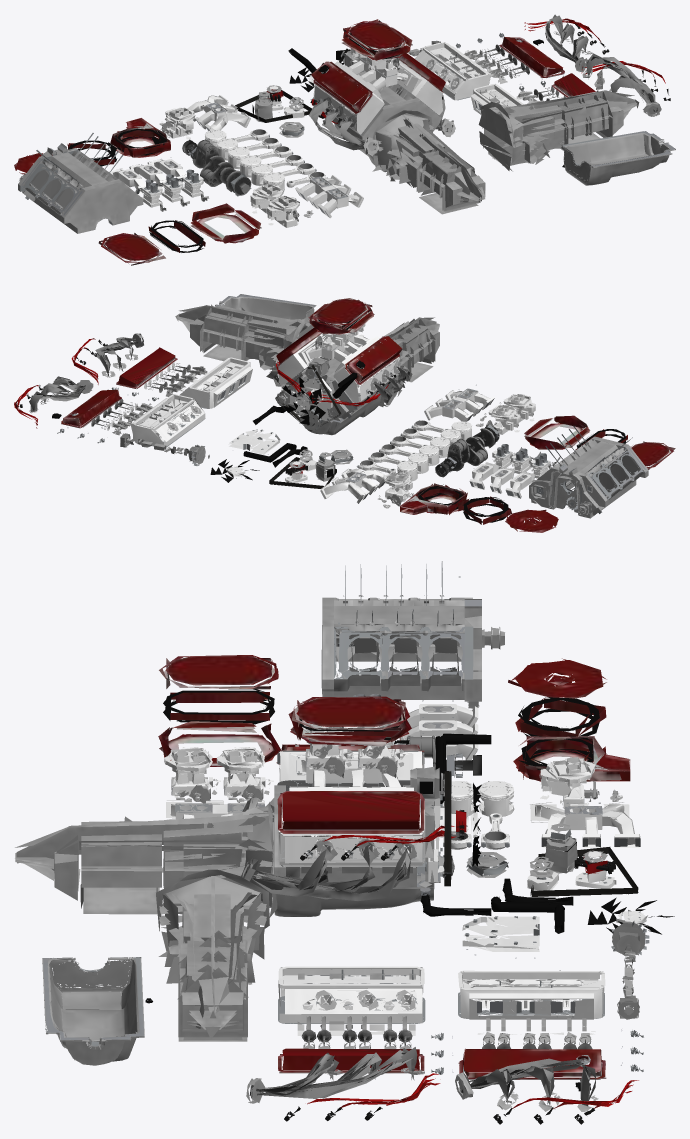
File: eng-v6-35-na.glb
The picture shows the model from 3 angles, top to bottom: view 1: azimuth 30°, elevation 25°; view 2: azimuth 150°, elevation 25°; view 3: azimuth 270°, elevation 25°; orthographic projection. The views are drawn at different scales.
Parts seen in each view (by area): view 1: hute_gearbox.002_Metall2_0, hute_gearbox.001_Metall2_0, Cube.018_Metall2_0, Plane.014_Metall2_0, Plane.015_Metall1_0, Cube.005_Metall2_0, Cylinder.012_Metall4_0, Plane.006_Metal_Paint_0, Cylinder.024_Metal_Paint_0, Cube.007_Metall1_0, Plane.005_Metall1_0, Cube.018_Metall3_0 (+27 smaller); view 2: hute_gearbox.002_Metall2_0, Cube.018_Metall2_0, Plane.015_Metall1_0, hute_gearbox.001_Metall2_0, Plane.012_Metall1_0, Cube.018_Metall3_0, Cylinder.012_Metall4_0, Plane.014_Metall2_0, Plane.006_Metal_Paint_0, Cylinder.024_Metal_Paint_0, Cube.007_Metall1_0, Cube.014_Metall1_0 (+33 smaller); view 3: hute_gearbox.001_Metall2_0, hute_gearbox.002_Metall2_0, Cube.018_Metall2_0, Plane.014_Metall2_0, Plane.012_Metall1_0, Plane.015_Metall1_0, Plane.010_Metal_Paint_0, Cube.018_Metall3_0, Plane.001_Metall1_0, Cylinder.028_Collector_0, Cylinder.039_Metal_Paint_0, Cylinder.022_Metal_Paint_0 (+36 smaller).
Boxes of the visible parts, x1,y1,x2,y2 form: hute_gearbox.002_Metall2_0: (478,90,639,171); hute_gearbox.001_Metall2_0: (372,110,485,214); Cube.018_Metall2_0: (18,143,143,233); Plane.014_Metall2_0: (561,131,675,185); Plane.015_Metall1_0: (414,42,491,100); Cube.005_Metall2_0: (317,71,441,151); Cylinder.012_Metall4_0: (182,139,251,195); Plane.006_Metal_Paint_0: (311,61,372,114); Cylinder.024_Metal_Paint_0: (191,203,261,243); Cube.007_Metall1_0: (295,175,363,218); Plane.005_Metall1_0: (313,61,384,134); Cube.018_Metall3_0: (19,133,123,225); hute_gearbox.002_Metall2_0: (175,304,314,370); Cube.018_Metall2_0: (529,436,648,518); Plane.015_Metall1_0: (130,394,205,446); hute_gearbox.001_Metall2_0: (379,317,439,406); Plane.012_Metall1_0: (179,357,252,408); Cube.018_Metall3_0: (536,426,646,513); Cylinder.012_Metall4_0: (435,426,499,477); Plane.014_Metall2_0: (215,294,316,319); Plane.006_Metal_Paint_0: (345,336,402,384); Cylinder.024_Metal_Paint_0: (524,415,590,449); Cube.007_Metall1_0: (424,389,494,421); Cube.014_Metall1_0: (469,462,535,498); hute_gearbox.001_Metall2_0: (15,802,277,917); hute_gearbox.002_Metall2_0: (156,869,269,1041); Cube.018_Metall2_0: (321,595,504,708); Plane.014_Metall2_0: (42,957,144,1065); Plane.012_Metall1_0: (278,966,424,1023); Plane.015_Metall1_0: (458,970,605,1019); Plane.010_Metal_Paint_0: (277,791,424,833); Cube.018_Metall3_0: (321,561,481,702); Plane.001_Metall1_0: (278,787,424,865); Cylinder.028_Collector_0: (244,845,410,900); Cylinder.039_Metal_Paint_0: (291,696,409,730); Cylinder.022_Metal_Paint_0: (159,655,278,689).
Size of the model in its own units: 3.33 by 0.6481 by 1.95.
14 materials, 13 textured.
